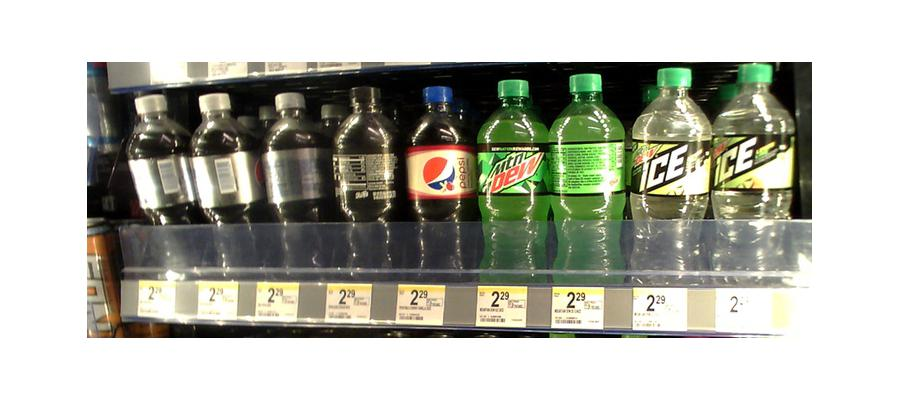bottle: (630, 63, 711, 285), (711, 62, 791, 281), (550, 73, 626, 284), (125, 97, 207, 281), (476, 80, 547, 277), (332, 85, 398, 276), (189, 98, 258, 280), (407, 85, 472, 277), (261, 94, 326, 274)
